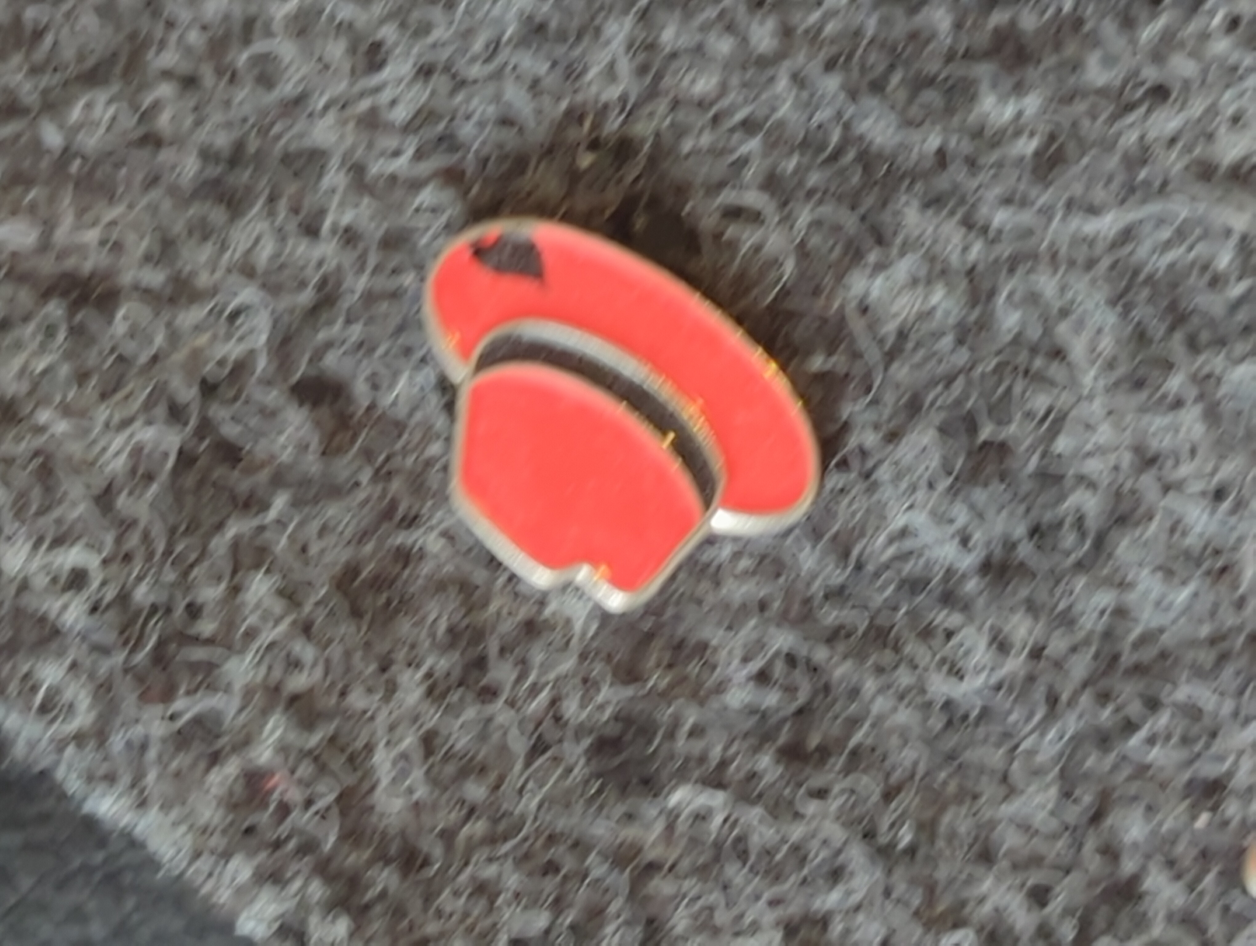Red-Hat: (356, 128, 986, 678)
Scratch: (435, 180, 573, 320)
